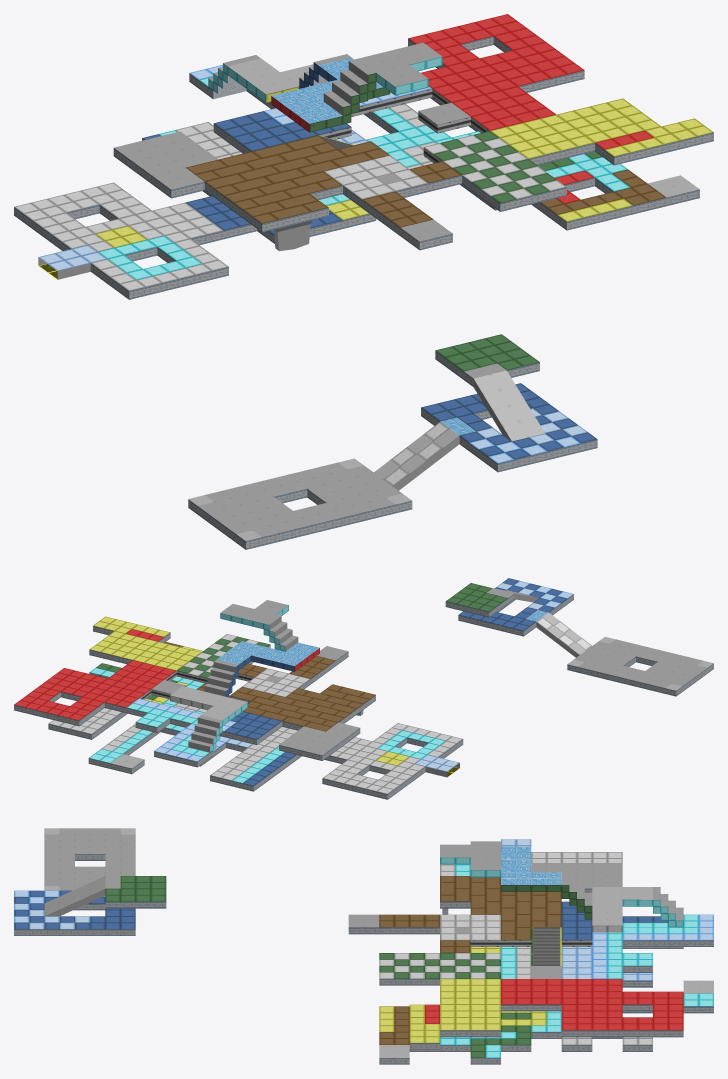
File: geometry-15-room4part3.FBX
3 views of the same model, one above another, from view 1: azimuth 30°, elevation 25°; view 2: azimuth 150°, elevation 25°; view 3: azimuth 270°, elevation 25° (orthographic). The views are drawn at different scales.
Visible parts, largest first — view 1: room4-part3; view 2: room4-part3; view 3: room4-part3.
Part boxes in pixels (box(x1,y1,x2,y2)): room4-part3: box(14, 14, 713, 549); room4-part3: box(14, 578, 713, 799); room4-part3: box(14, 828, 713, 1064).
Bounding box in the file's own units: 840 × 210 × 920.
Materials: 1 (1 with a texture image).
